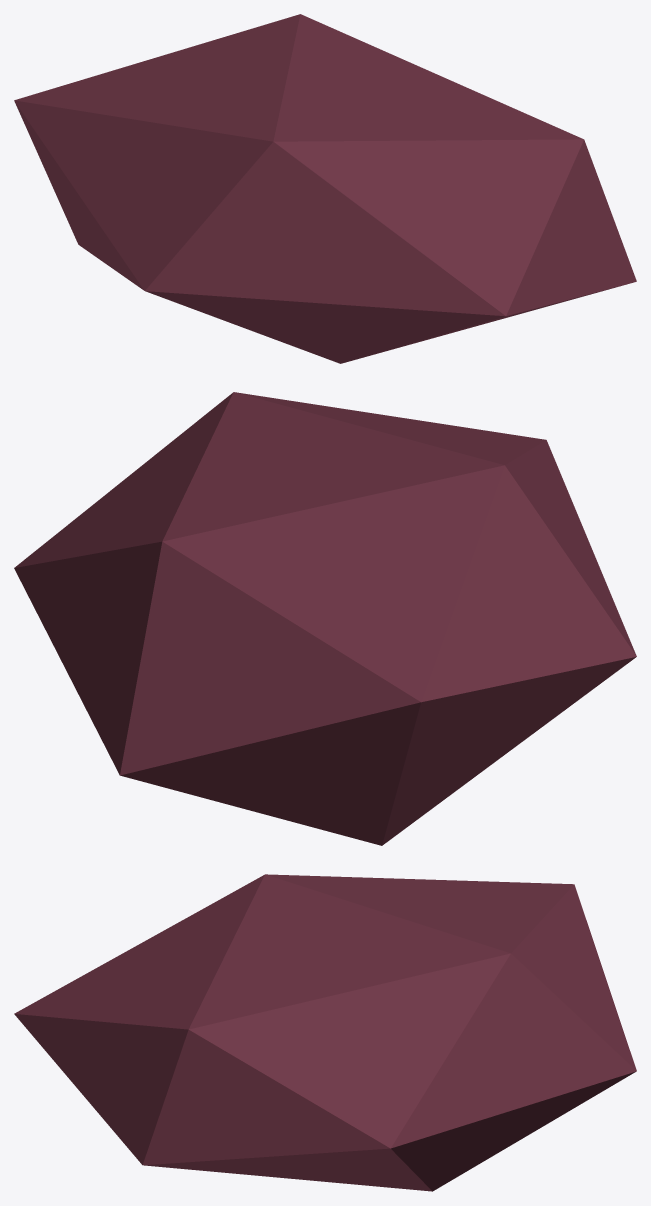
Rendered from rock-small-red.fbx.
3 views of the same model, one above another, from view 1: azimuth 30°, elevation 25°; view 2: azimuth 150°, elevation 25°; view 3: azimuth 270°, elevation 25° (orthographic). The views are drawn at different scales.
Visible parts, largest first — view 1: rock_small_red; view 2: rock_small_red; view 3: rock_small_red.
Boxes of the visible parts, x1,y1,x2,y2 form: rock_small_red: (14,14,636,363); rock_small_red: (14,392,636,845); rock_small_red: (14,874,636,1191).
Size of the model in its own units: 0.9929 by 0.4858 by 1.22.
